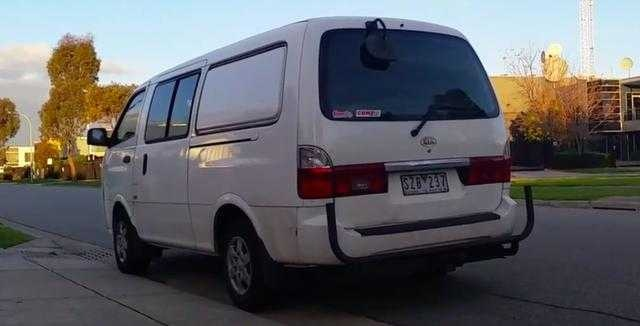van: (88, 15, 524, 312)
